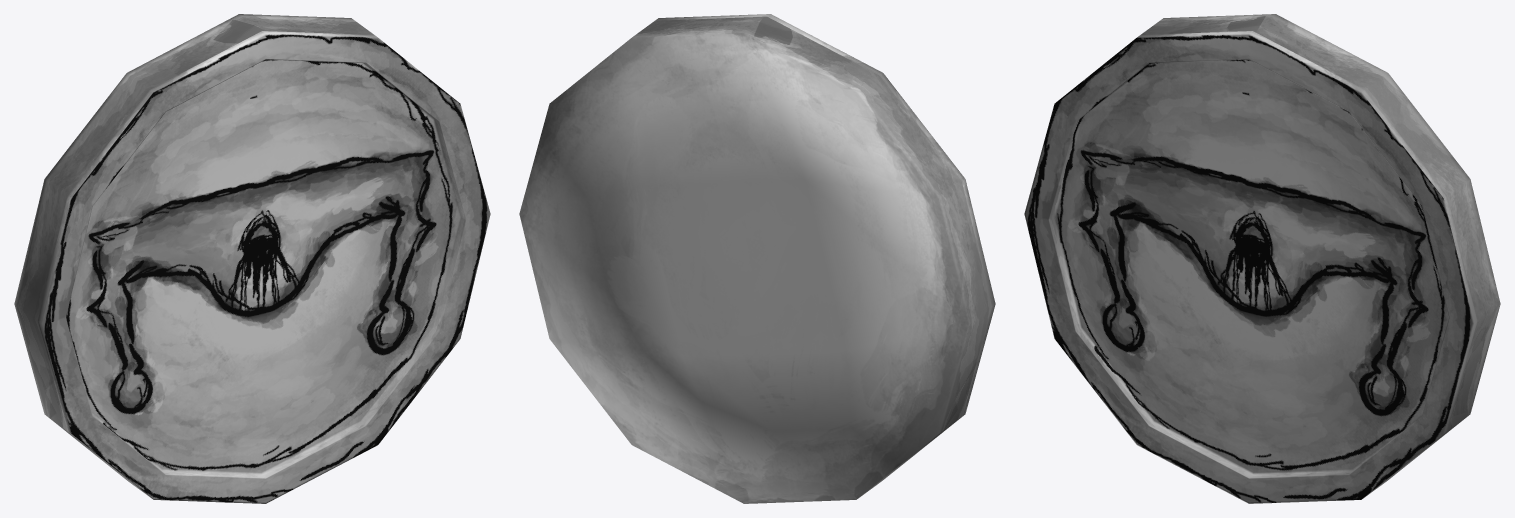
3 views of the same model, side by side, from view 1: azimuth 30°, elevation 25°; view 2: azimuth 150°, elevation 25°; view 3: azimuth 330°, elevation 25° (orthographic).
Visible parts, largest first — view 1: Circle; view 2: Circle; view 3: Circle.
Part boxes in pixels (x1,y1,x2,y2): Circle: (14,14,490,503); Circle: (519,14,995,503); Circle: (1024,14,1500,503).
Size of the model in its own units: 0.686 by 0.686 by 0.0708.
Materials: 1 (1 with a texture image).
